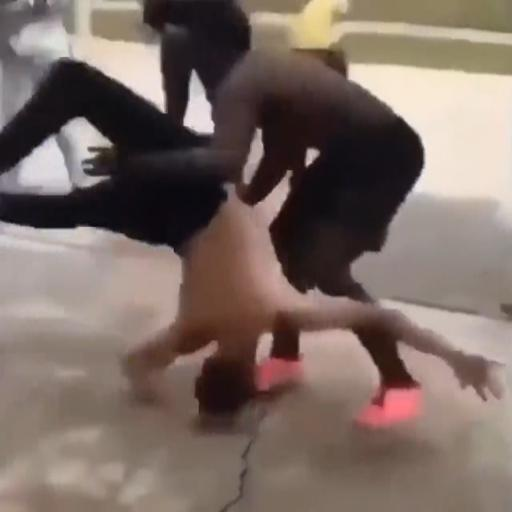violencia: (0, 0, 512, 443)
